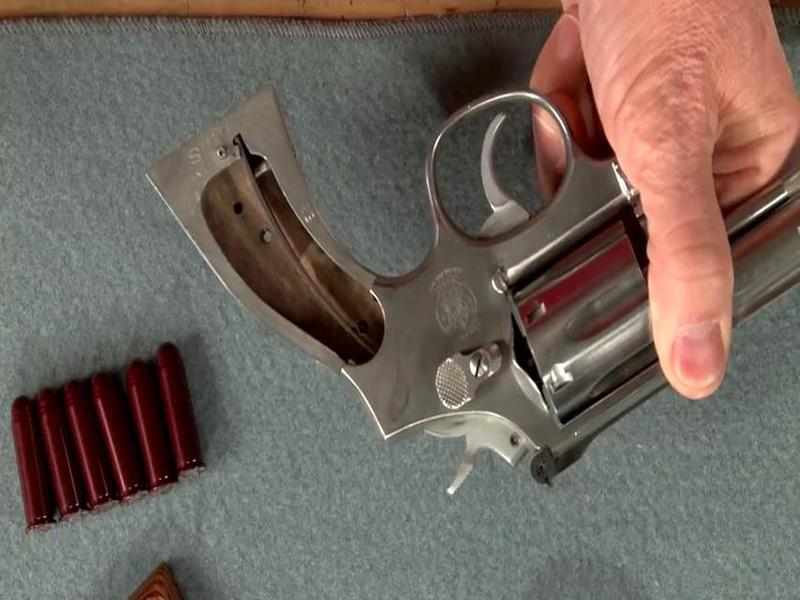Revolver: (143, 52, 800, 498)
